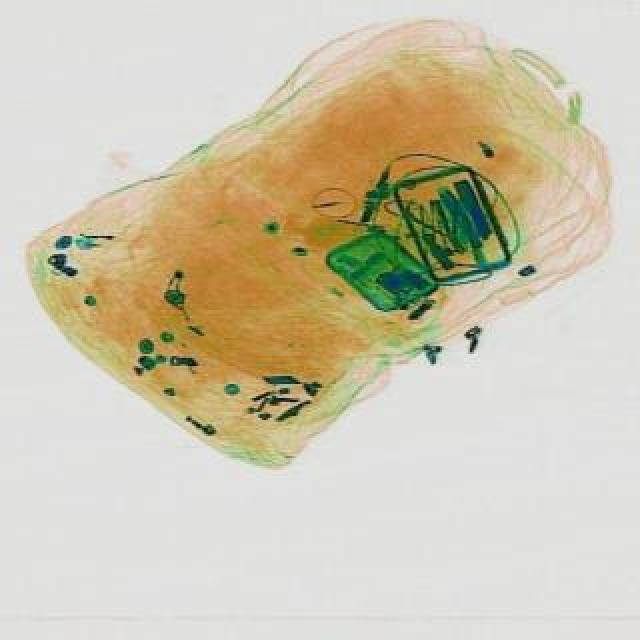wrench: (400, 184, 482, 266)
